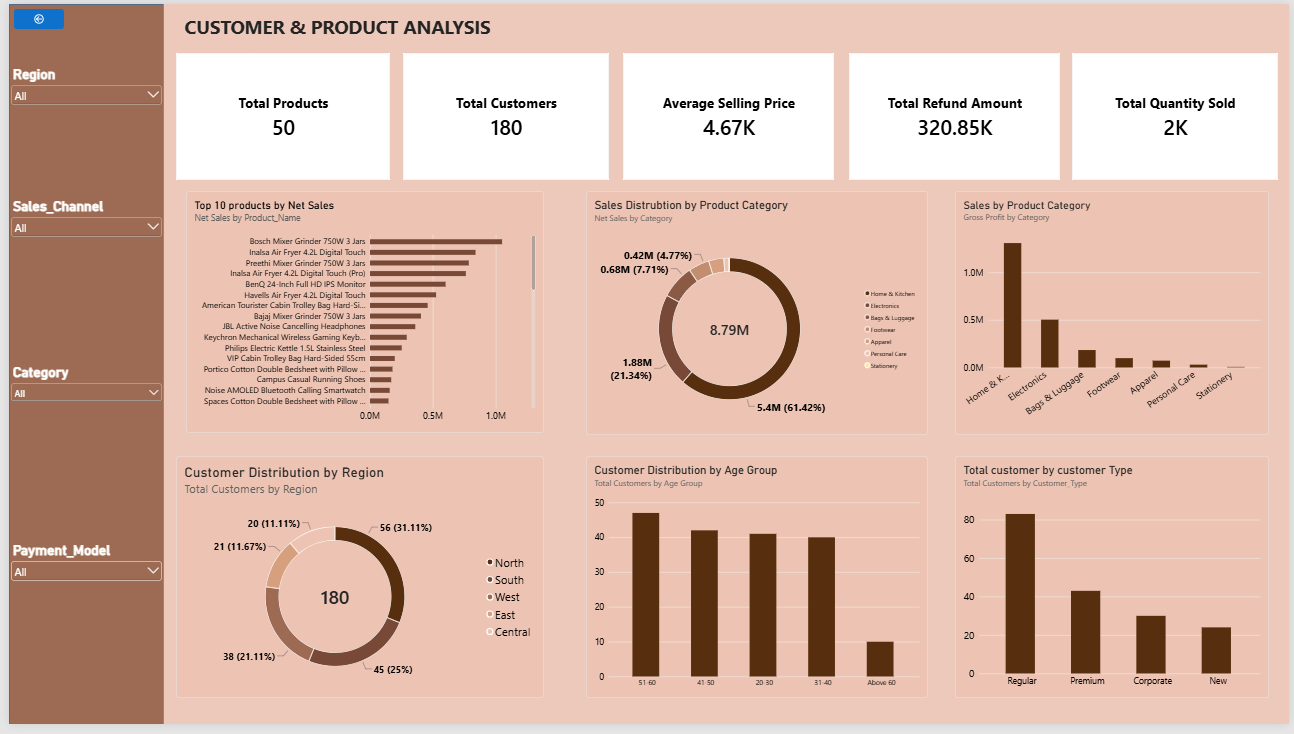

The page's visual inventory and layout, read from the dashboard file:
{"tool":"powerbi","page":{"name":"Page 2","canvas":[2560,1440],"ordinal":1},"visuals":[{"type":"shape","box":[0,0,309.3,1439.5],"z":0},{"type":"actionButton","box":[10,10,100,40],"z":1000},{"type":"textbox","box":[310,20,715,65],"z":2000},{"type":"cardVisual","fields":{"Data":["Customer Data.Total Products"]},"box":[334,98,428,254],"z":3000},{"type":"cardVisual","fields":{"Data":["Customer Data.Total Customers"]},"box":[788,98,412,254],"z":4000},{"type":"cardVisual","fields":{"Data":["Customer Data.Average Selling Price"]},"box":[1228,98,422,254],"z":5000},{"type":"cardVisual","fields":{"Data":["Customer Data.Total Refund Amount"]},"box":[1680,98,422,254],"z":6000},{"type":"cardVisual","fields":{"Data":["Calendar.Total Quantity Sold"]},"box":[2126,98,412,254],"z":7000},{"type":"donutChart","title":"Sales Distrubtion by Product Category ","fields":{"Category":["Product Data.Category"],"Y":["Customer Data.Net Sales"]},"box":[1154,374,684,488],"z":9000},{"type":"donutChart","title":"Customer Distribution by Region ","fields":{"Category":["Customer Data.Region"],"Y":["Customer Data.Total Customers"]},"box":[334,904,736,484],"z":10000},{"type":"columnChart","title":"Customer Distribution by Age Group ","fields":{"Category":["Customer Data.Age Group"],"Y":["Customer Data.Total Customers"]},"box":[1154,904,684,484],"z":11000},{"type":"clusteredColumnChart","title":"Sales by Product Category ","fields":{"Category":["Product Data.Category"],"Y":["Customer Data.Gross Profit"]},"box":[1892,374,628,488],"z":12000},{"type":"clusteredBarChart","title":"Top 10 products by Net Sales","fields":{"Category":["Product Data.Product_Name"],"Y":["Customer Data.Net Sales"]},"box":[354,374,716,484],"z":13000},{"type":"slicer","fields":{"Values":["Customer Data.Region"]},"box":[0,124,310,140],"z":14000},{"type":"slicer","fields":{"Values":["Orders Data.Sales_Channel"]},"box":[0,388,310,140],"z":15000},{"type":"slicer","fields":{"Values":["Product Data.Category"]},"box":[0,720,310,140],"z":16000},{"type":"slicer","fields":{"Values":["Orders Data.Payment_Model"]},"box":[0,1076,310,140],"z":17000},{"type":"clusteredColumnChart","title":"Total customer by customer Type ","fields":{"Category":["Customer Data.Customer_Type"],"Y":["Customer Data.Total Customers"]},"box":[1892,904,628,484],"z":17001}]}

Visuals, with their boxes in screenshot pixels (x1, y1, x2, y2), scaled from the page's 2560x1440 canvas onto the 1294x734 screenshot:
shape: rect(0, 0, 156, 733)
actionButton: rect(5, 5, 56, 25)
textbox: rect(157, 10, 518, 43)
cardVisual - Customer Data.Total Products: rect(169, 50, 385, 179)
cardVisual - Customer Data.Total Customers: rect(398, 50, 607, 179)
cardVisual - Customer Data.Average Selling Price: rect(621, 50, 834, 179)
cardVisual - Customer Data.Total Refund Amount: rect(849, 50, 1062, 179)
cardVisual - Calendar.Total Quantity Sold: rect(1075, 50, 1283, 179)
"Sales Distrubtion by Product Category " donutChart: rect(583, 191, 929, 439)
"Customer Distribution by Region " donutChart: rect(169, 461, 541, 707)
"Customer Distribution by Age Group " columnChart: rect(583, 461, 929, 707)
"Sales by Product Category " clusteredColumnChart: rect(956, 191, 1274, 439)
"Top 10 products by Net Sales" clusteredBarChart: rect(179, 191, 541, 437)
slicer - Customer Data.Region: rect(0, 63, 157, 135)
slicer - Orders Data.Sales_Channel: rect(0, 198, 157, 269)
slicer - Product Data.Category: rect(0, 367, 157, 438)
slicer - Orders Data.Payment_Model: rect(0, 548, 157, 620)
"Total customer by customer Type " clusteredColumnChart: rect(956, 461, 1274, 707)
